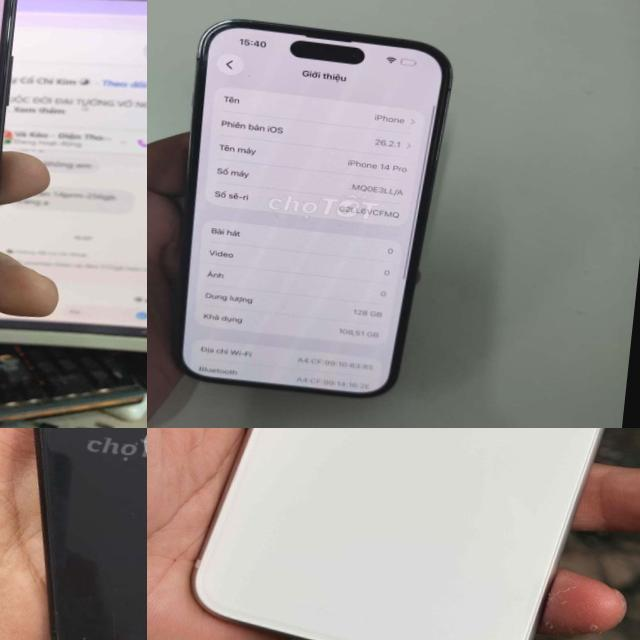scratch: (0, 428, 147, 640)
